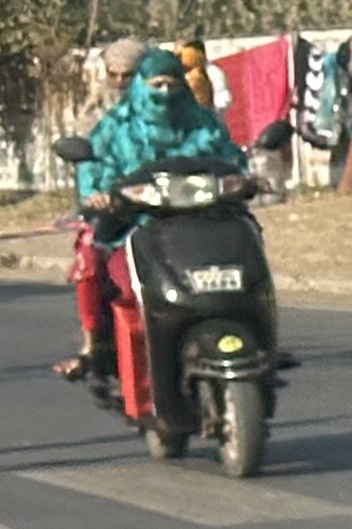BikeWithRider: (36, 29, 312, 480)
NoHelmet: (132, 48, 194, 118), (97, 36, 151, 104)
